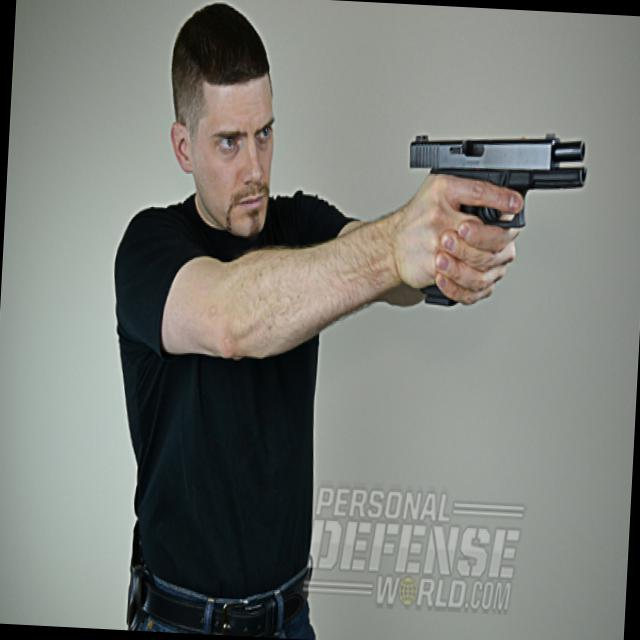handgun: (400, 126, 593, 316)
